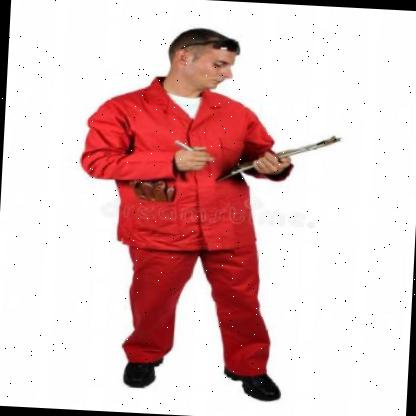bota: (218, 352, 286, 402), (116, 340, 170, 393)
